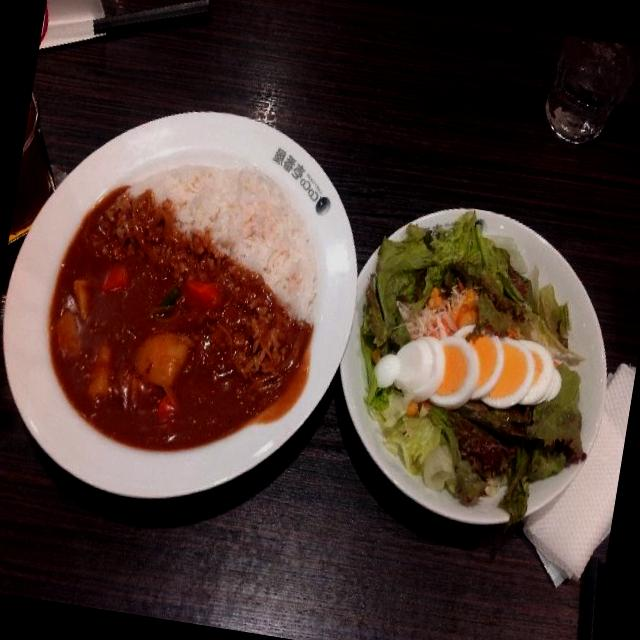Beef Curry: (32, 192, 318, 449)
